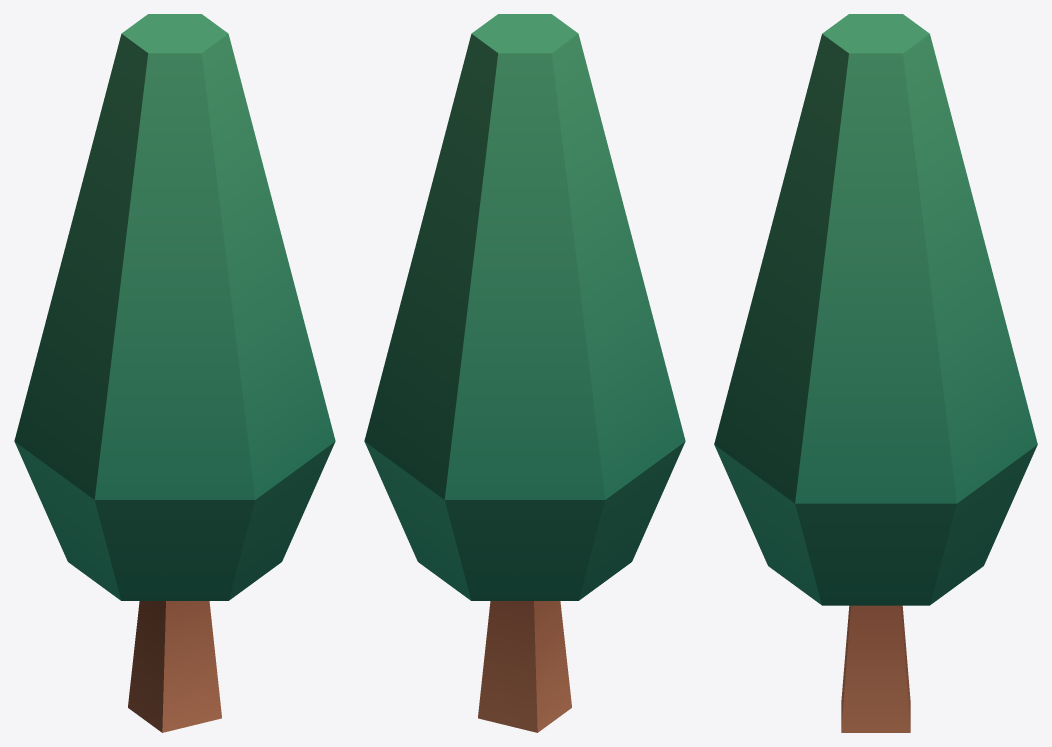
File: tree-small-high.glb
The picture shows the model from 3 angles, left to right: view 1: azimuth 30°, elevation 25°; view 2: azimuth 150°, elevation 25°; view 3: azimuth 270°, elevation 25°; orthographic projection.
Size of the model in its own units: 0.2104 by 0.567 by 0.243.
